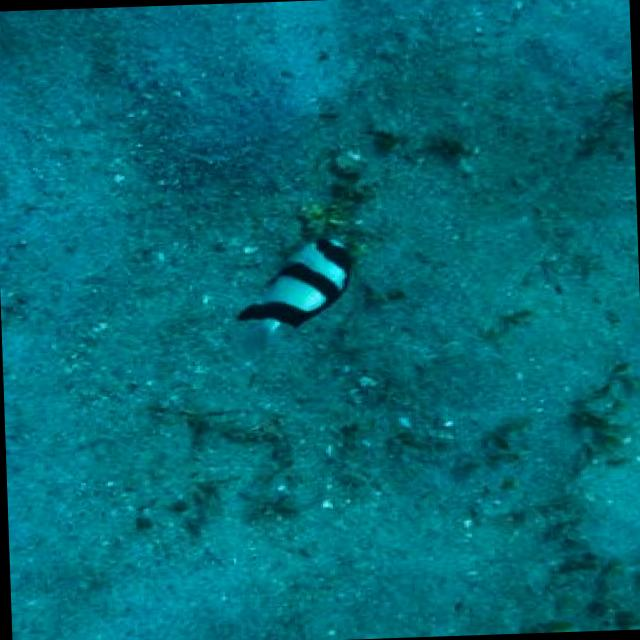ThreeStripedDamselfish: (234, 238, 350, 349)
